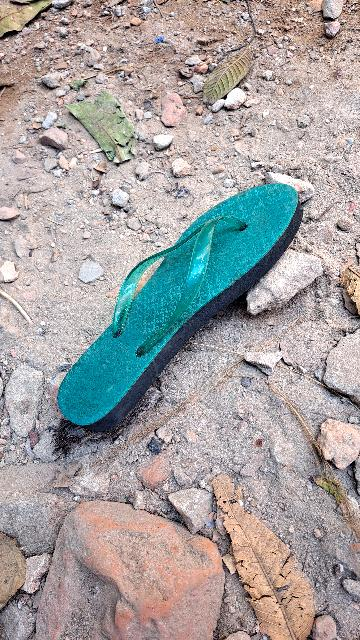sandal: (47, 169, 319, 447)
